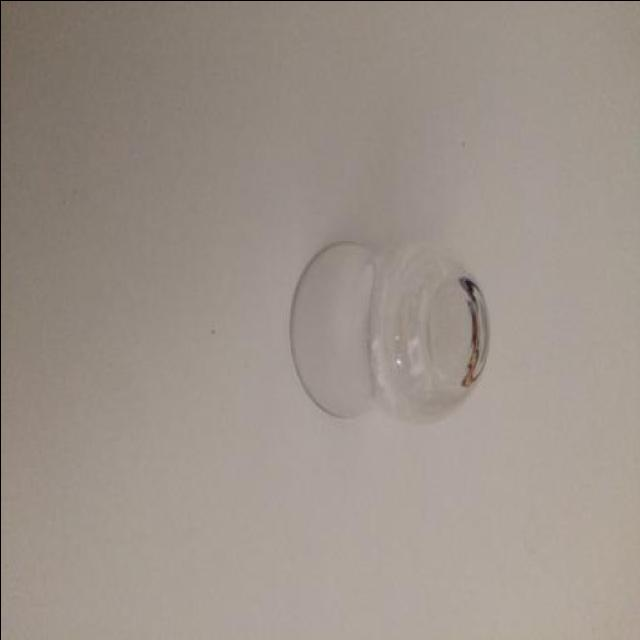glass: (290, 238, 492, 424)
